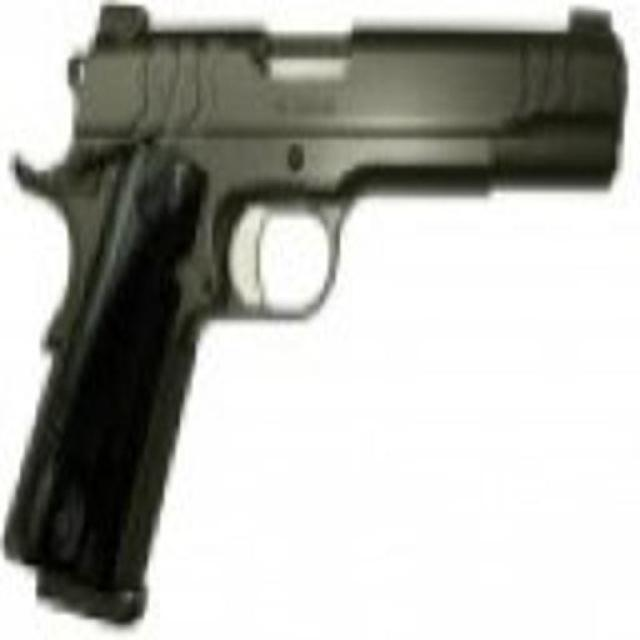pistol: (3, 5, 631, 629)
